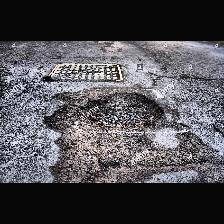pothole: (76, 92, 164, 130)
